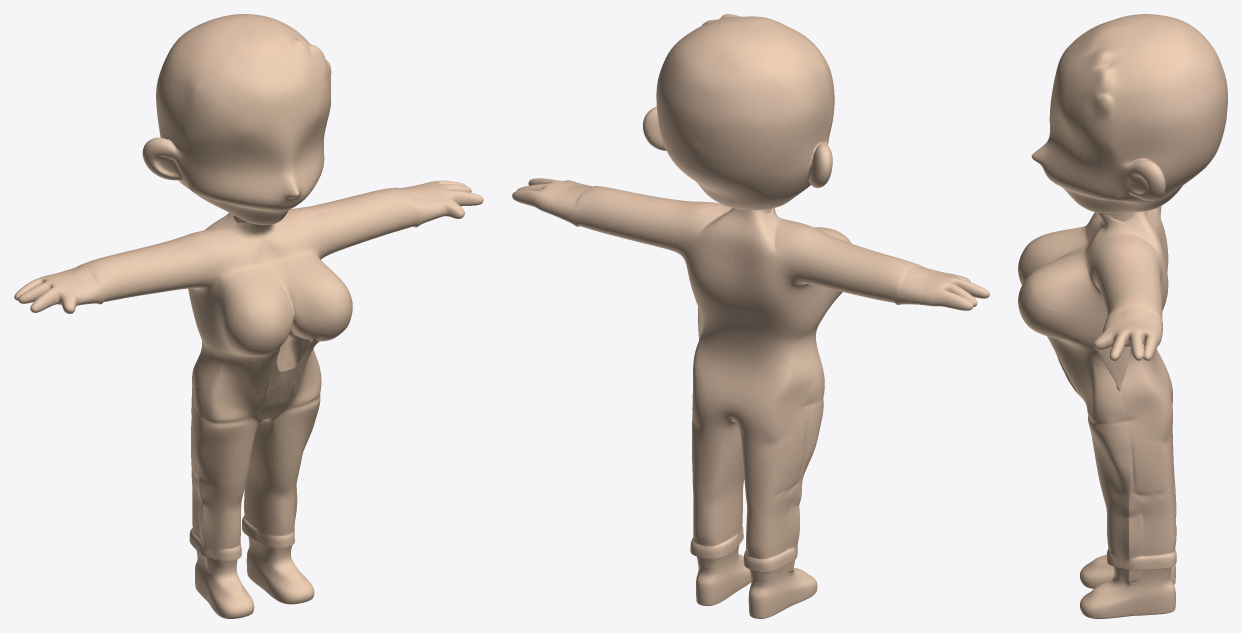
Rendered from char_yeoja_base_v6.glb.
The picture shows the model from 3 angles, left to right: view 1: azimuth 30°, elevation 25°; view 2: azimuth 150°, elevation 25°; view 3: azimuth 270°, elevation 25°; orthographic projection.
Bounding box in the file's own units: 1.6 × 1.9 × 0.6326.
Materials: 1 (1 with a texture image).
